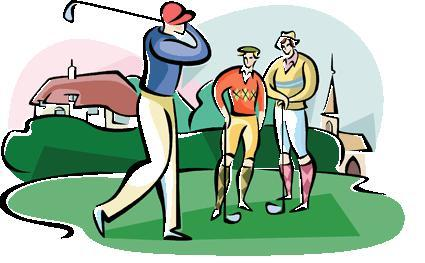person: (262, 28, 320, 216), (211, 43, 267, 221)
pottedplant: (92, 1, 211, 241)
